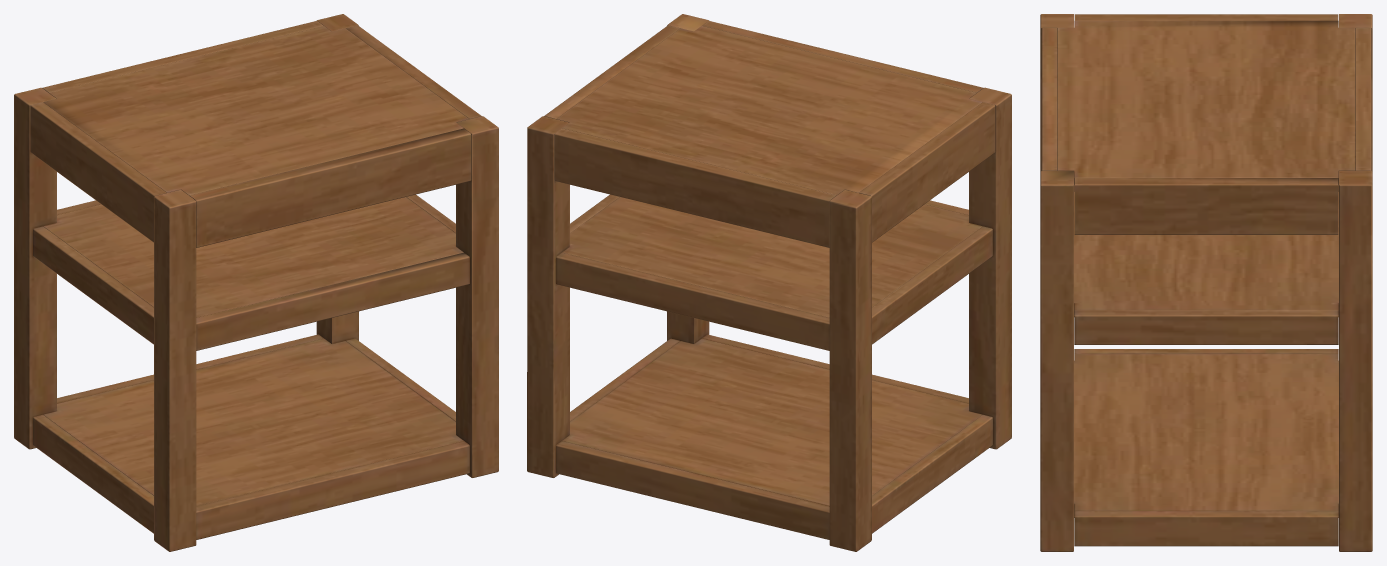
Rendered from side_table_01.glb.
3 views of the same model, side by side, from view 1: azimuth 30°, elevation 25°; view 2: azimuth 150°, elevation 25°; view 3: azimuth 270°, elevation 25° (orthographic). The views are drawn at different scales.
Visible parts, largest first — view 1: side_table_01; view 2: side_table_01; view 3: side_table_01.
Part boxes in pixels (<box>): side_table_01: <box>14,14,498,551</box>; side_table_01: <box>527,14,1011,551</box>; side_table_01: <box>1040,14,1372,551</box>.
Size of the model in its own units: 0.55 by 0.5507 by 0.45.
1 material, 1 textured.
